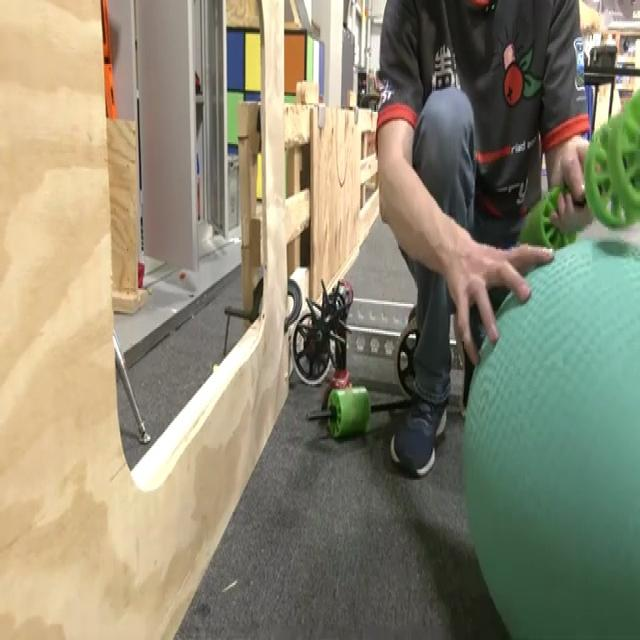Algae: (461, 236, 639, 636)
